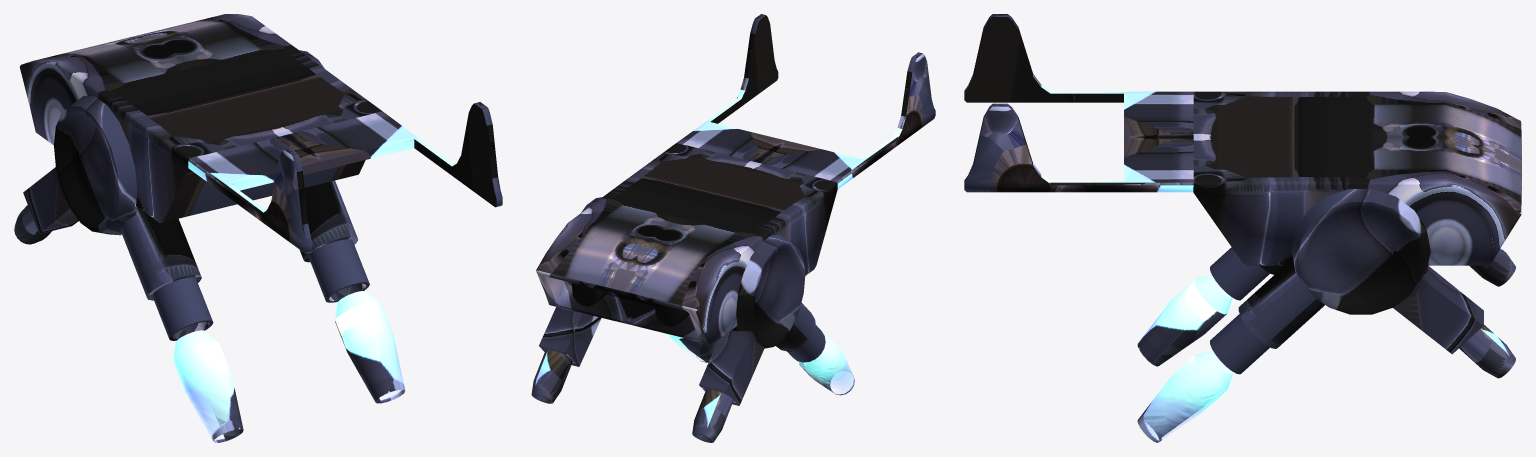
Rendered from drone(compressed).glb.
3 views of the same model, side by side, from view 1: azimuth 30°, elevation 25°; view 2: azimuth 150°, elevation 25°; view 3: azimuth 270°, elevation 25° (orthographic). The views are drawn at different scales.
Visible parts, largest first — view 1: Box001, Object002_Material #5_0; view 2: Box001, Object002_Material #5_0; view 3: Box001, Object002_Material #5_0.
Boxes of the visible parts, left/top/right/bottom form: Box001: left=14, top=14, right=502, bottom=340; Object002_Material #5_0: left=173, top=291, right=405, bottom=442; Box001: left=531, top=14, right=935, bottom=442; Object002_Material #5_0: left=668, top=334, right=854, bottom=395; Box001: left=964, top=14, right=1521, bottom=378; Object002_Material #5_0: left=1137, top=274, right=1232, bottom=442.
Size of the model in its own units: 1.48 by 2.21 by 3.27.
Materials: 2 (2 with a texture image).
